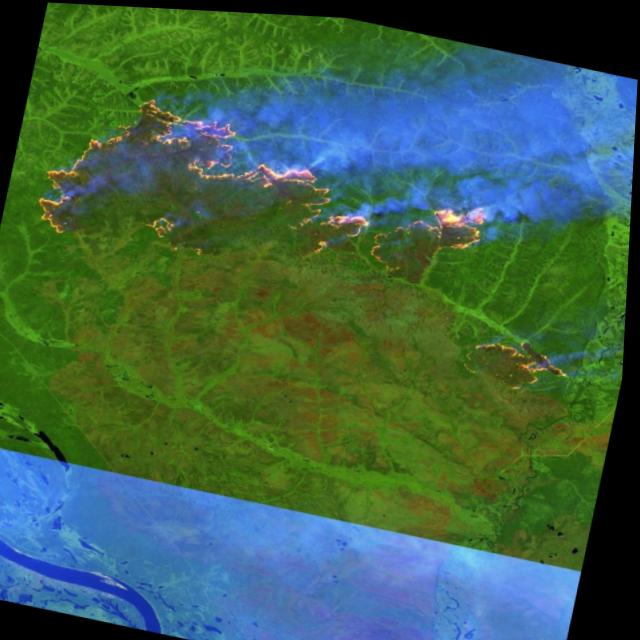fire: (28, 74, 509, 320), (466, 323, 582, 396)
